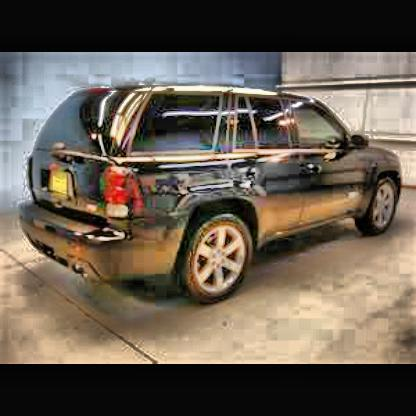Chevrolet TrailBlazer SS 2009: (19, 85, 407, 312)
